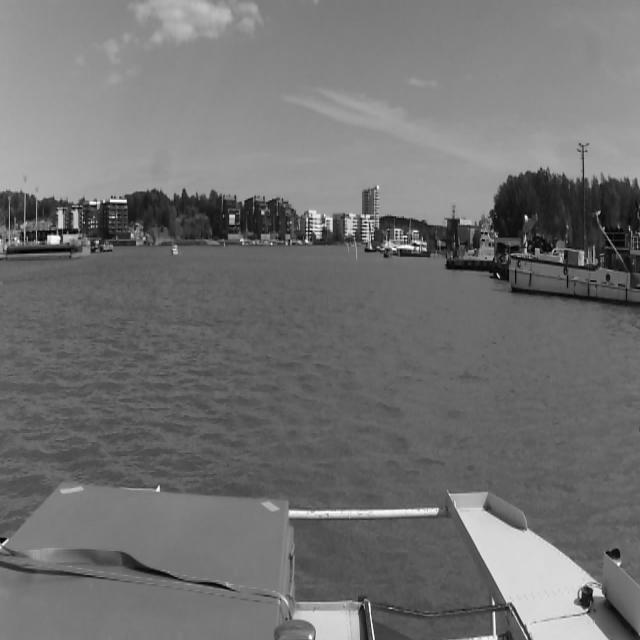ship: (511, 213, 639, 307), (448, 226, 496, 274), (393, 235, 427, 255), (364, 223, 376, 253), (172, 245, 178, 255)
